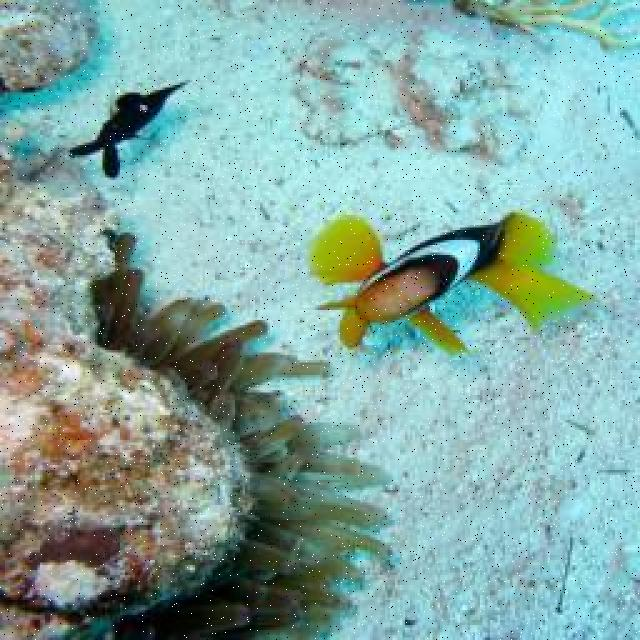fish: (304, 212, 599, 360), (67, 81, 191, 179)
reefs: (88, 228, 394, 638)
